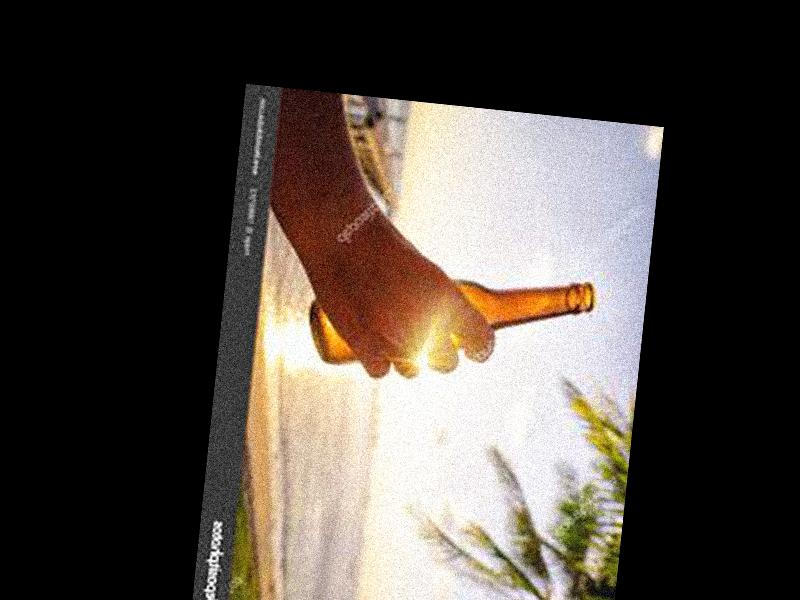Beer: (304, 253, 596, 390)
